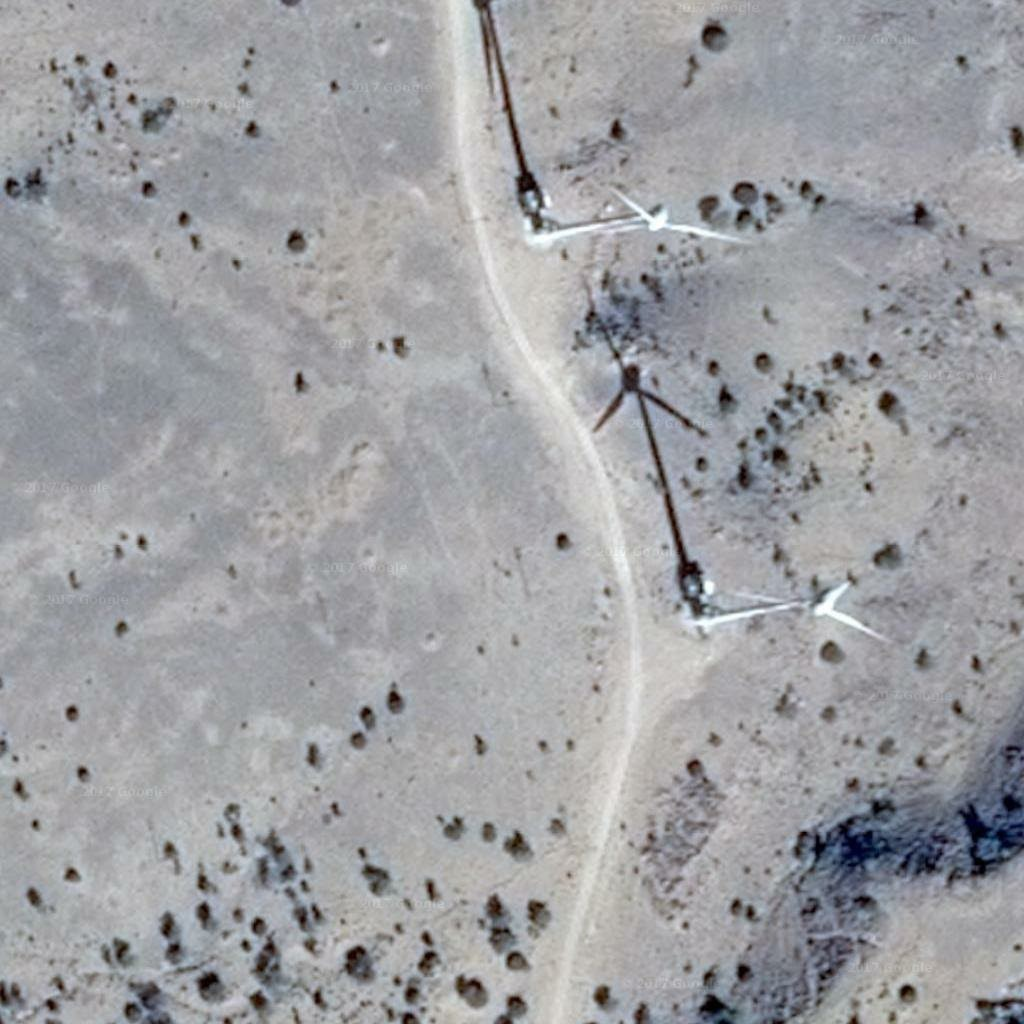Windmill: (583, 298, 732, 603)
